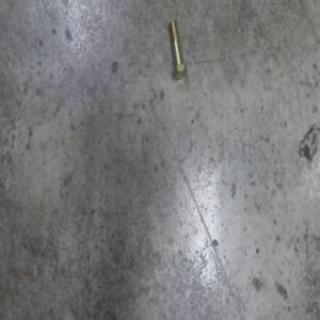Bolttrack_idkeyframe: (168, 18, 187, 79)
